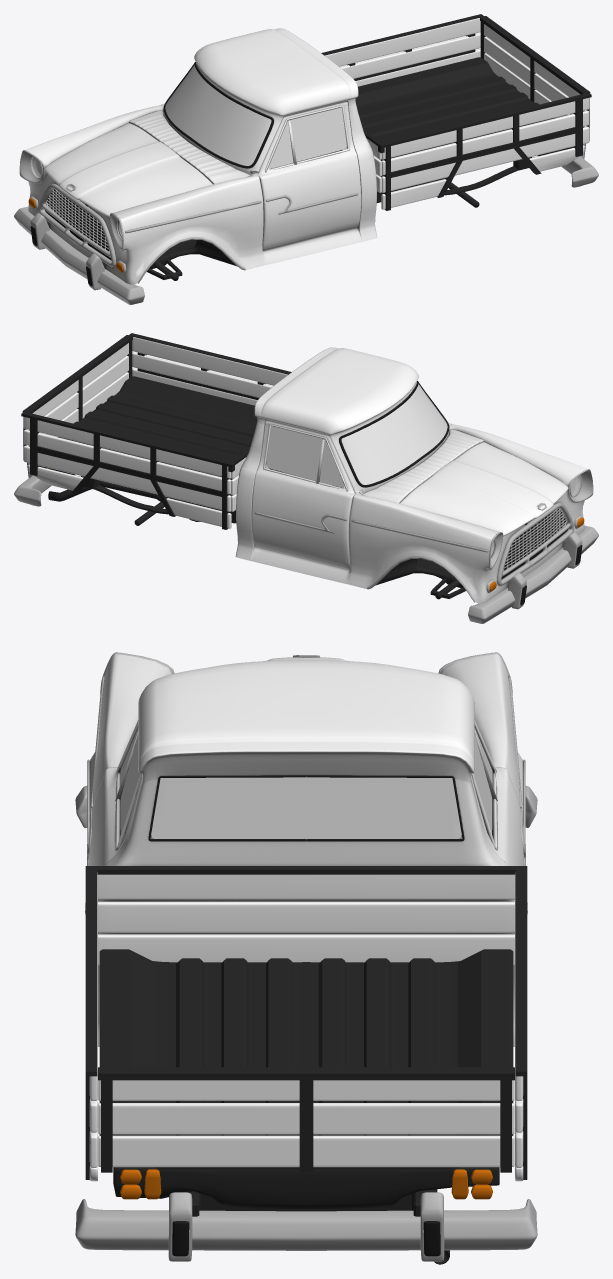
The model's file is Rastrojero06.glb.
3 renders of one model, top to bottom at view 1: azimuth 30°, elevation 25°; view 2: azimuth 150°, elevation 25°; view 3: azimuth 270°, elevation 25°, orthographic. The views are drawn at different scales.
Visible parts, largest first — view 1: Pintura_ao, Chapa_ao, Madera_ao, Metal_ao, Vidrio_ao, Goma_ao; view 2: Pintura_ao, Chapa_ao, Madera_ao, Metal_ao, Vidrio_ao, Goma_ao; view 3: Chapa_ao, Madera_ao, Pintura_ao, Metal_ao, Vidrio_ao, Goma_ao, LucesReversa_ao.
Part boxes in pixels (<box>): Pintura_ao: <box>25,28,377,284</box>; Chapa_ao: <box>45,14,591,280</box>; Madera_ao: <box>325,18,589,209</box>; Metal_ao: <box>14,143,598,304</box>; Vidrio_ao: <box>165,65,346,168</box>; Goma_ao: <box>30,62,585,286</box>; Pintura_ao: <box>235,347,587,603</box>; Chapa_ao: <box>21,333,567,599</box>; Madera_ao: <box>23,337,287,528</box>; Metal_ao: <box>14,462,598,623</box>; Vidrio_ao: <box>266,384,447,487</box>; Goma_ao: <box>27,381,582,605</box>; Chapa_ao: <box>85,831,527,1264</box>; Madera_ao: <box>89,872,523,1181</box>; Pintura_ao: <box>87,654,525,1046</box>; Metal_ao: <box>75,652,537,1261</box>; Vidrio_ao: <box>120,728,492,839</box>; Goma_ao: <box>148,775,464,1256</box>; LucesReversa_ao: <box>144,1169,468,1199</box>.
Size of the model in its own units: 4.64 by 1.44 by 1.88.
Materials: 7 (1 with a texture image).
